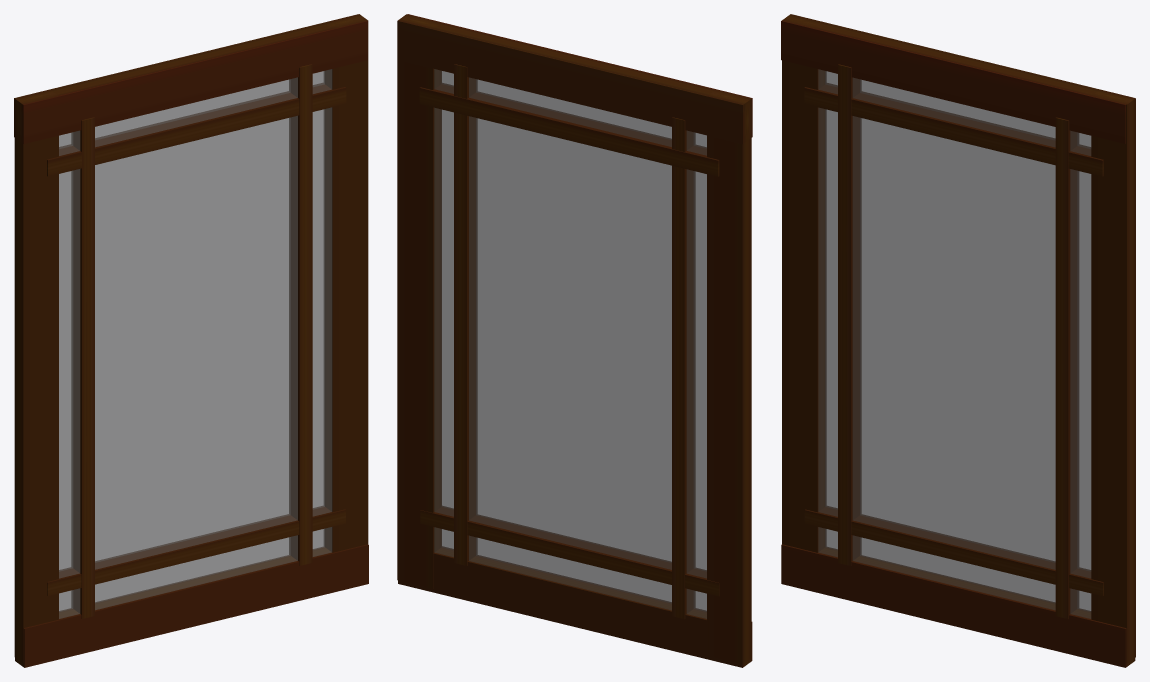
Rendered from newWindowDk.obj.
3 renders of one model, left to right at view 1: azimuth 30°, elevation 25°; view 2: azimuth 150°, elevation 25°; view 3: azimuth 330°, elevation 25°, orthographic.
Visible parts, largest first — view 1: sweethome3d_window_pane, Cube_5_1, Cube_5, Cube_4_1, Cube_4, innerpane3, innerpane4, innerpane2, innerpane1; view 2: sweethome3d_window_pane, Cube_5_1, Cube_5, Cube_4_1, Cube_4, innerpane3, innerpane4, innerpane2, innerpane1; view 3: sweethome3d_window_pane, Cube_5, Cube_5_1, Cube_4_1, Cube_4, innerpane3, innerpane4, innerpane2, innerpane1.
Boxes of the visible parts, x1,y1,x2,y2 form: sweethome3d_window_pane: (59, 69, 332, 618); Cube_5_1: (14, 89, 58, 663); Cube_5: (324, 14, 368, 552); Cube_4_1: (14, 15, 367, 143); Cube_4: (15, 544, 368, 667); innerpane3: (289, 64, 312, 565); innerpane4: (71, 117, 94, 618); innerpane2: (47, 83, 346, 176); innerpane1: (47, 506, 345, 595); sweethome3d_window_pane: (434, 69, 706, 618); Cube_5_1: (707, 90, 751, 664); Cube_5: (397, 14, 441, 588); Cube_4_1: (398, 14, 752, 143); Cube_4: (398, 546, 752, 667); innerpane3: (454, 64, 477, 565); innerpane4: (672, 117, 695, 619); innerpane2: (419, 83, 719, 176); innerpane1: (420, 506, 719, 596); sweethome3d_window_pane: (818, 69, 1091, 618); Cube_5: (1091, 89, 1135, 663); Cube_5_1: (782, 14, 826, 552); Cube_4_1: (781, 14, 1130, 143); Cube_4: (781, 544, 1135, 667); innerpane3: (1055, 117, 1078, 618); innerpane4: (838, 64, 861, 565); innerpane2: (804, 83, 1103, 176); innerpane1: (804, 506, 1103, 596).
Bounding box in the file's own units: 2.95 × 4.6 × 0.1658.
2 materials, 1 textured.
